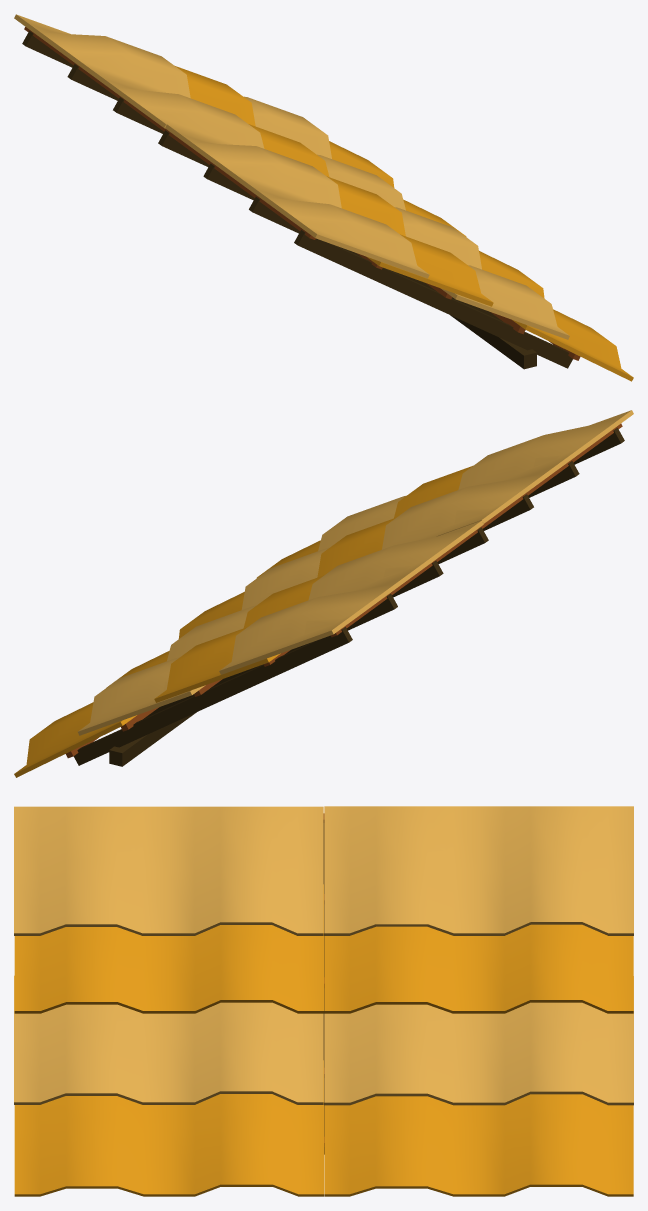
The model's file is Krovni pokrivac.FBX.
The picture shows the model from 3 angles, top to bottom: view 1: azimuth 30°, elevation 25°; view 2: azimuth 150°, elevation 25°; view 3: azimuth 270°, elevation 25°; orthographic projection. The views are drawn at different scales.
Parts seen in each view (by area): view 1: Box482, Box481, Box484, Box483; view 2: Box482, Box481, Box484, Box483; view 3: Box482, Box481.
Boxes of the visible parts, x1,y1,x2,y2 form: Box482: (14, 14, 569, 339); Box481: (175, 66, 633, 381); Box484: (22, 31, 572, 369); Box483: (24, 27, 580, 360); Box482: (78, 410, 633, 735); Box481: (14, 466, 472, 777); Box484: (73, 428, 624, 766); Box483: (66, 423, 622, 758); Box482: (14, 806, 633, 1105); Box481: (14, 884, 633, 1196).
Size of the model in its own units: 256 by 165 by 401.
